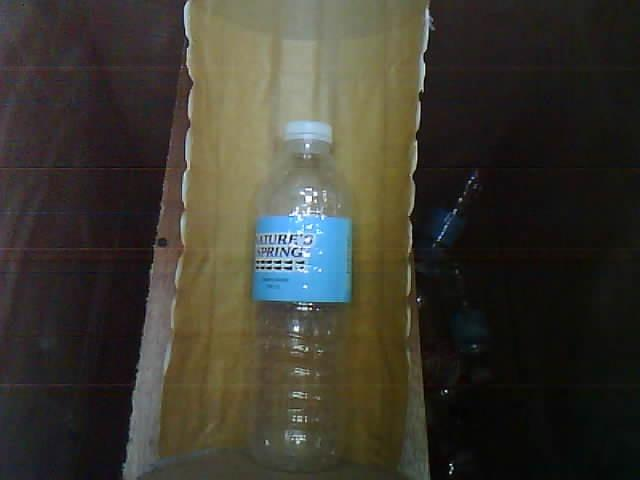small_bottle: (229, 106, 368, 477)
